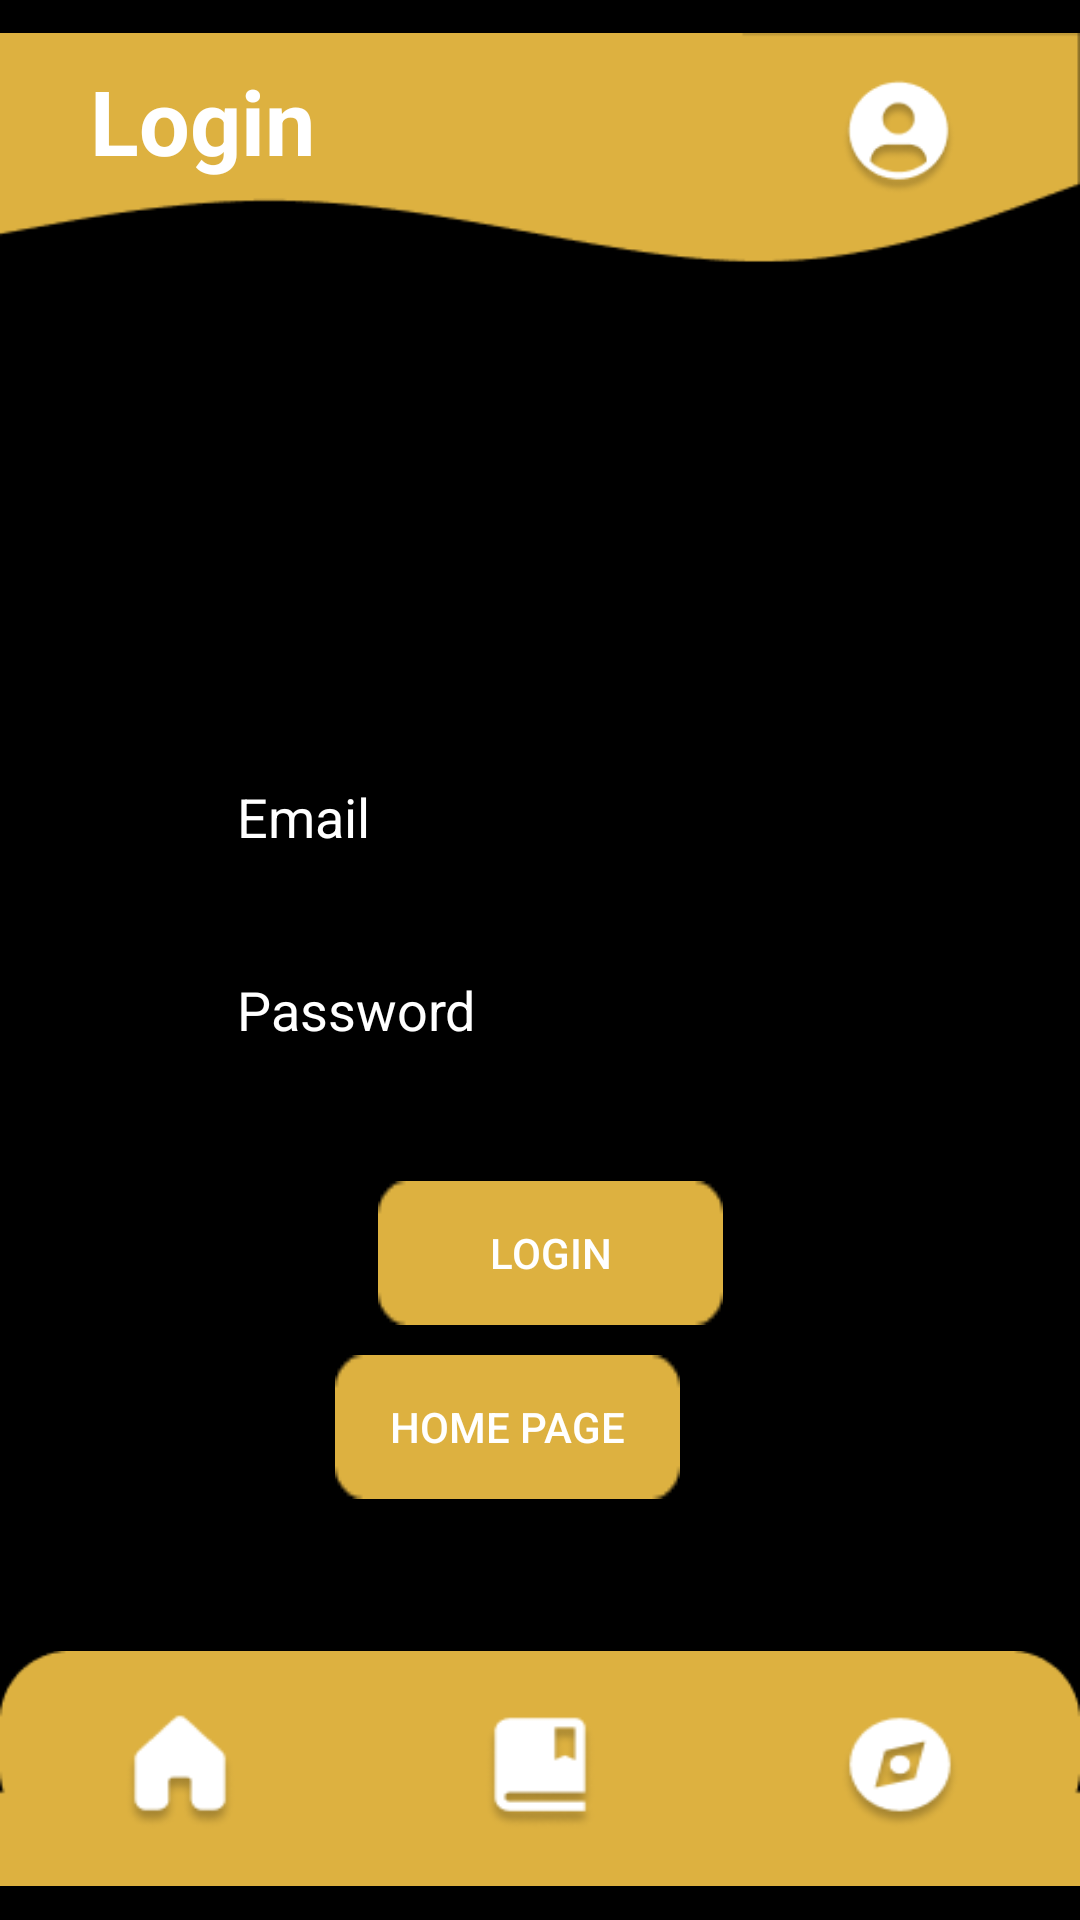

Screen size 1080 × 1920. Icon name, then its box in pixels as (x1, y1, x2, y2):
explore: (849, 1717, 951, 1820)
home: (134, 1715, 226, 1820)
